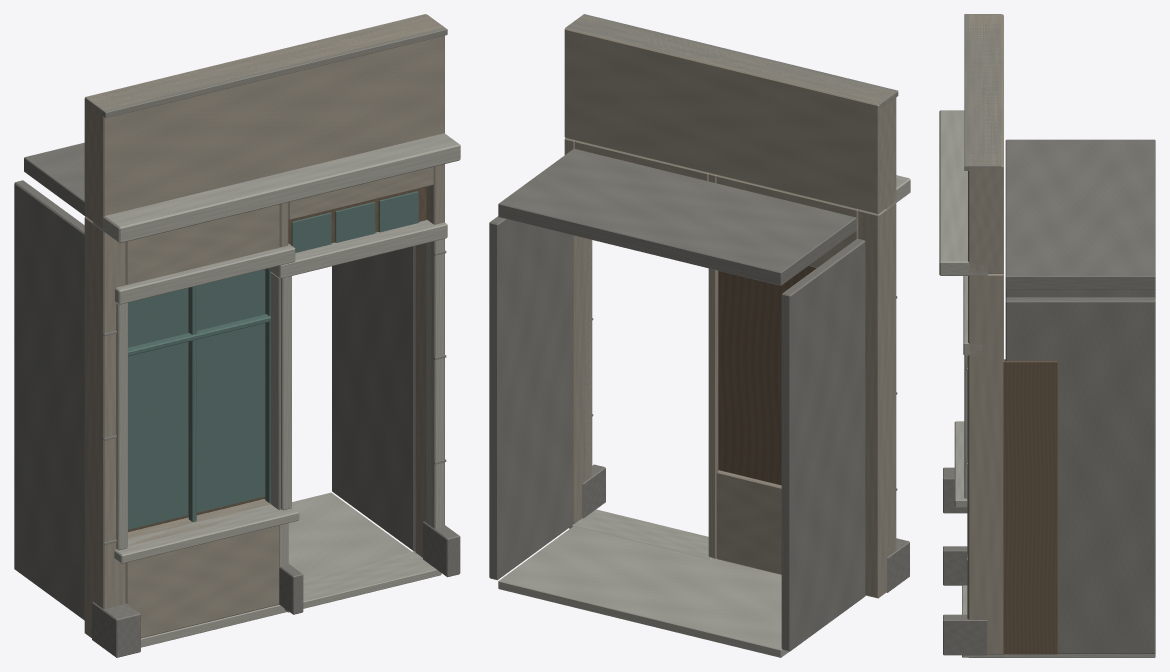
The model's file is F01_NarrowShop_visual.glb.
The picture shows the model from 3 angles, left to right: view 1: azimuth 30°, elevation 25°; view 2: azimuth 150°, elevation 25°; view 3: azimuth 270°, elevation 25°; orthographic projection. The views are drawn at different scales.
Visible parts, largest first — view 1: F01_NarrowShop__VIS; view 2: F01_NarrowShop__VIS; view 3: F01_NarrowShop__VIS.
Boxes of the visible parts, x1=… form: F01_NarrowShop__VIS: x1=14, y1=14, x2=460, y2=657; F01_NarrowShop__VIS: x1=489, y1=14, x2=910, y2=657; F01_NarrowShop__VIS: x1=939, y1=14, x2=1155, y2=657.
Size of the model in its own units: 12.08 by 18.3 by 7.21.
1 material, 1 textured.
